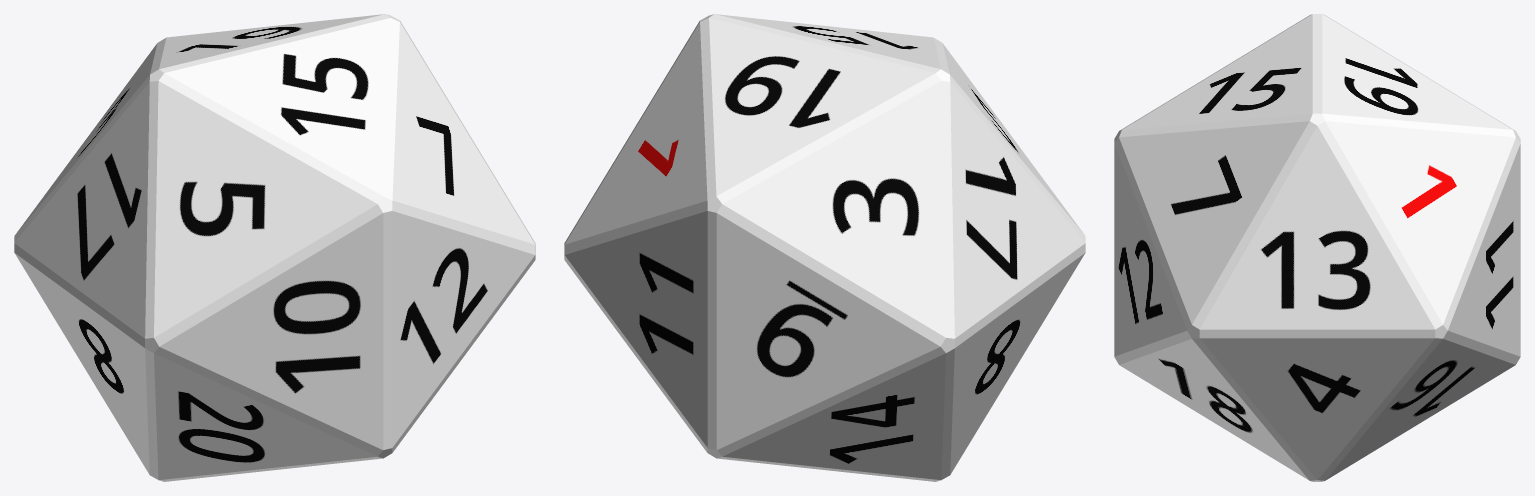
The model's file is Dice20.obj.
3 views of the same model, side by side, from view 1: azimuth 30°, elevation 25°; view 2: azimuth 150°, elevation 25°; view 3: azimuth 270°, elevation 25° (orthographic). The views are drawn at different scales.
Parts seen in each view (by area): view 1: Icosphere; view 2: Icosphere; view 3: Icosphere.
Part boxes in pixels (x1,y1,x2,y2): Icosphere: [14, 14, 535, 481]; Icosphere: [564, 14, 1085, 481]; Icosphere: [1114, 14, 1520, 481].
Bounding box in the file's own units: 0.3208 × 0.3208 × 0.3208.
Materials: 1 (1 with a texture image).
